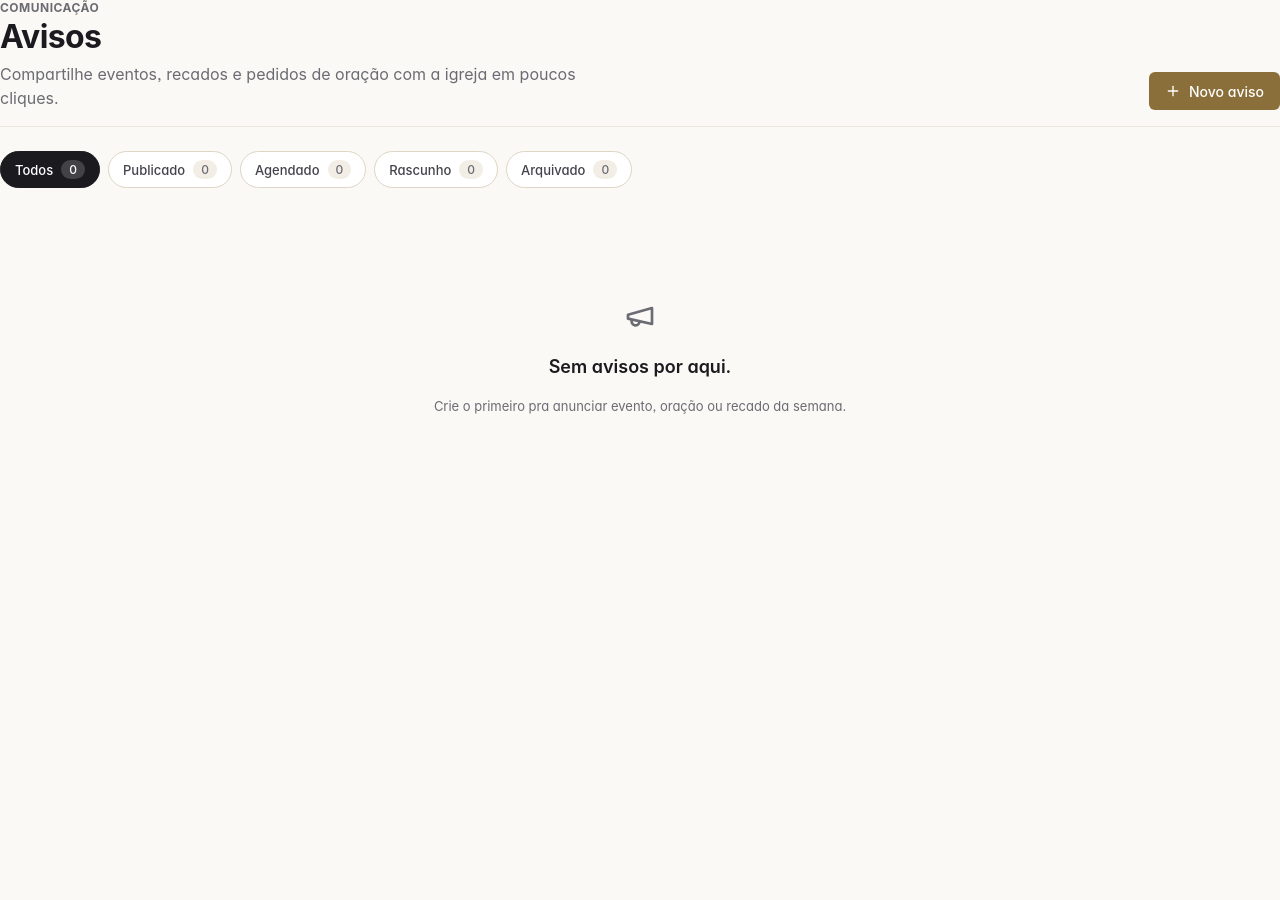
Test: AnnouncementsView › shows error badge on conteudo tab when required title is missing
Click the button "Novo aviso" at coordinates (1214, 91), box [1149,72,1279,110]
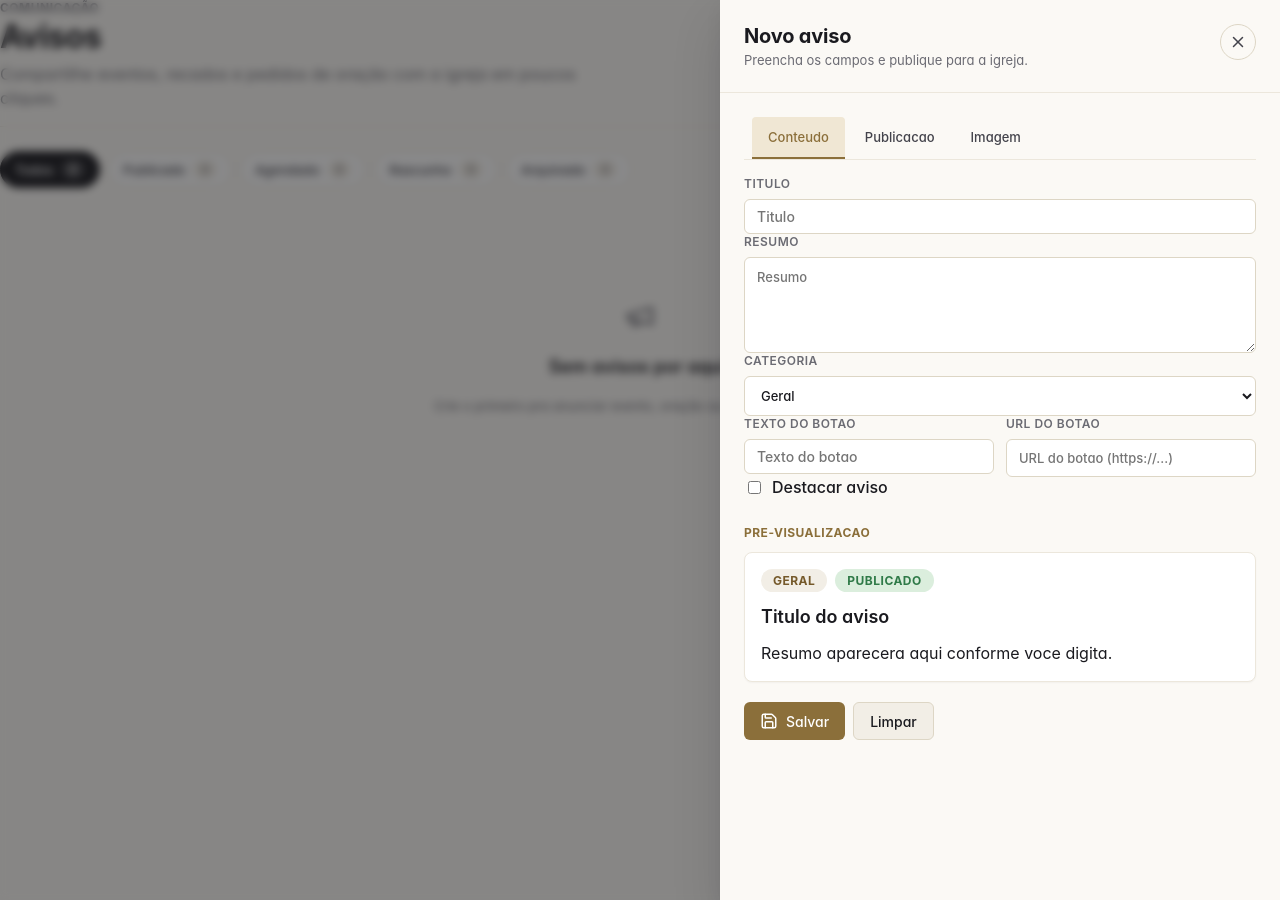
Submit the form named "salvar", box [744,117,1256,740]
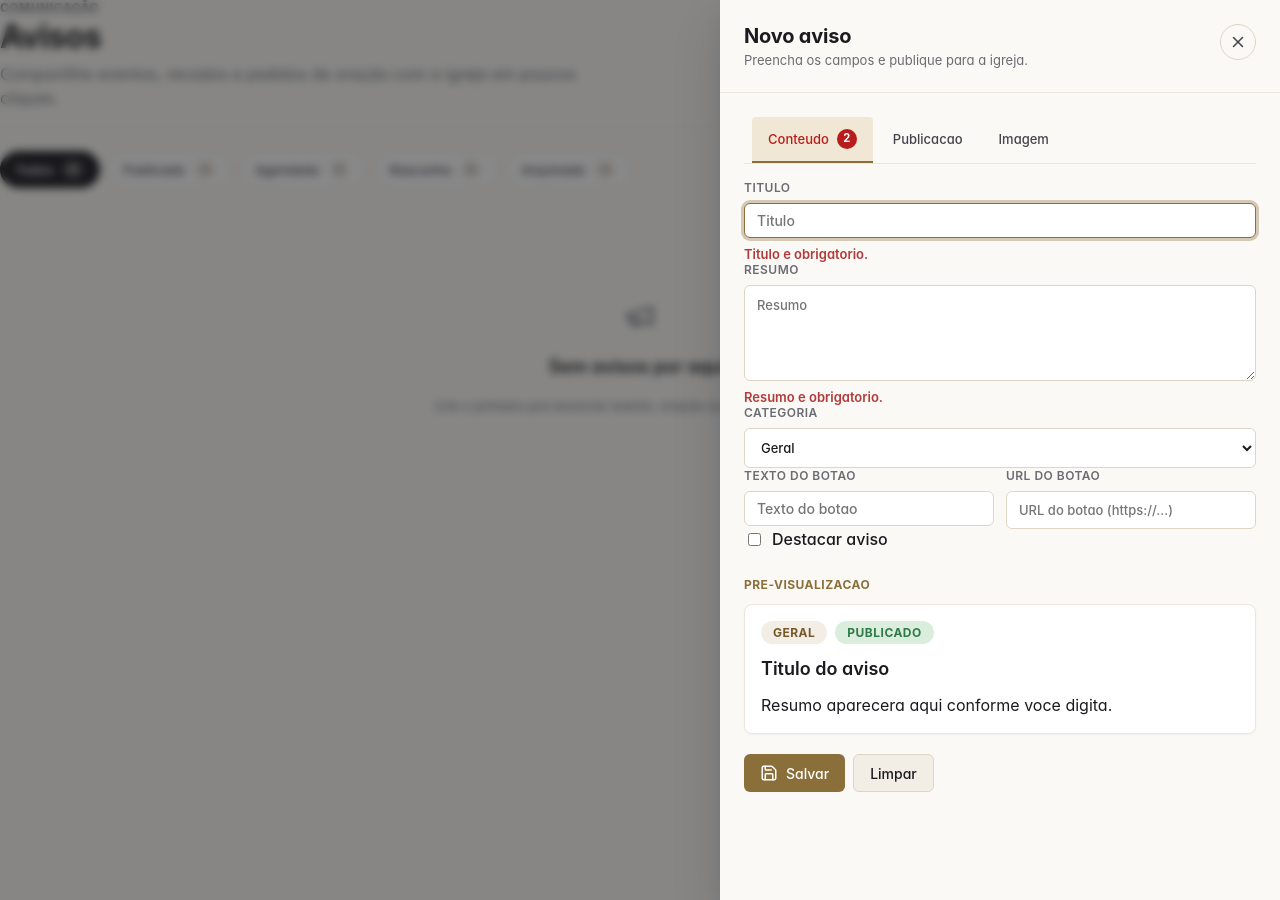
Expected: the text "Titulo e obrigatorio." is shown, [744,246,868,262]
Expected: the text "2" is shown, [837,129,857,149]
